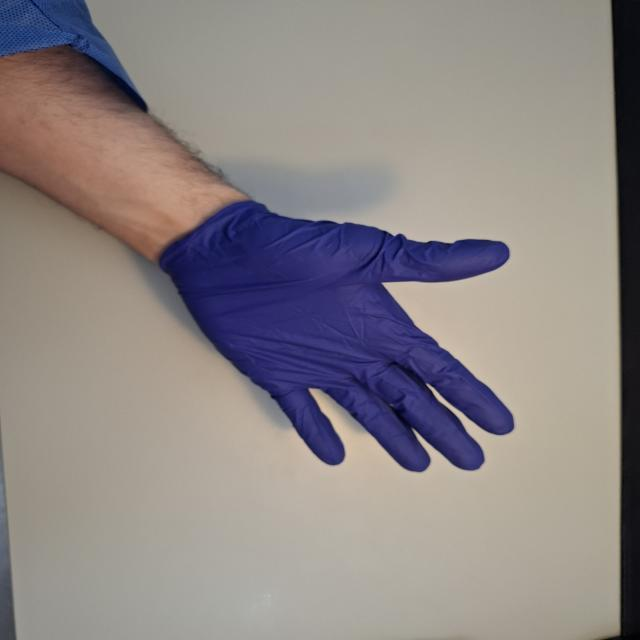glove_on: (155, 195, 518, 477)
